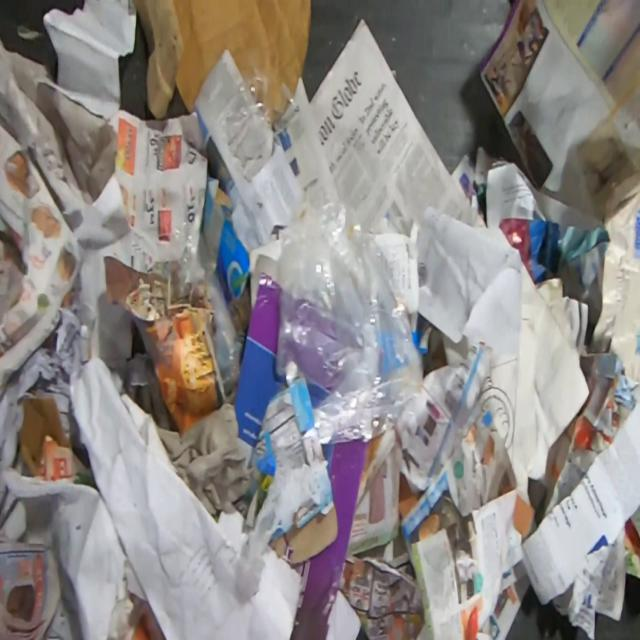cardboard: (130, 0, 312, 121), (103, 256, 225, 435), (251, 362, 339, 564), (280, 442, 367, 639), (236, 253, 288, 475), (201, 175, 251, 332), (15, 397, 71, 478), (307, 384, 328, 411)
rigid_plastic: (222, 57, 301, 165)
soft_plastic: (276, 178, 429, 445), (168, 222, 240, 396)
